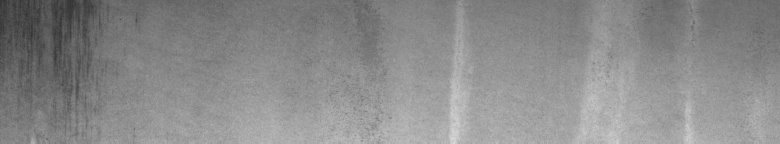ka: (4, 4, 138, 116)
